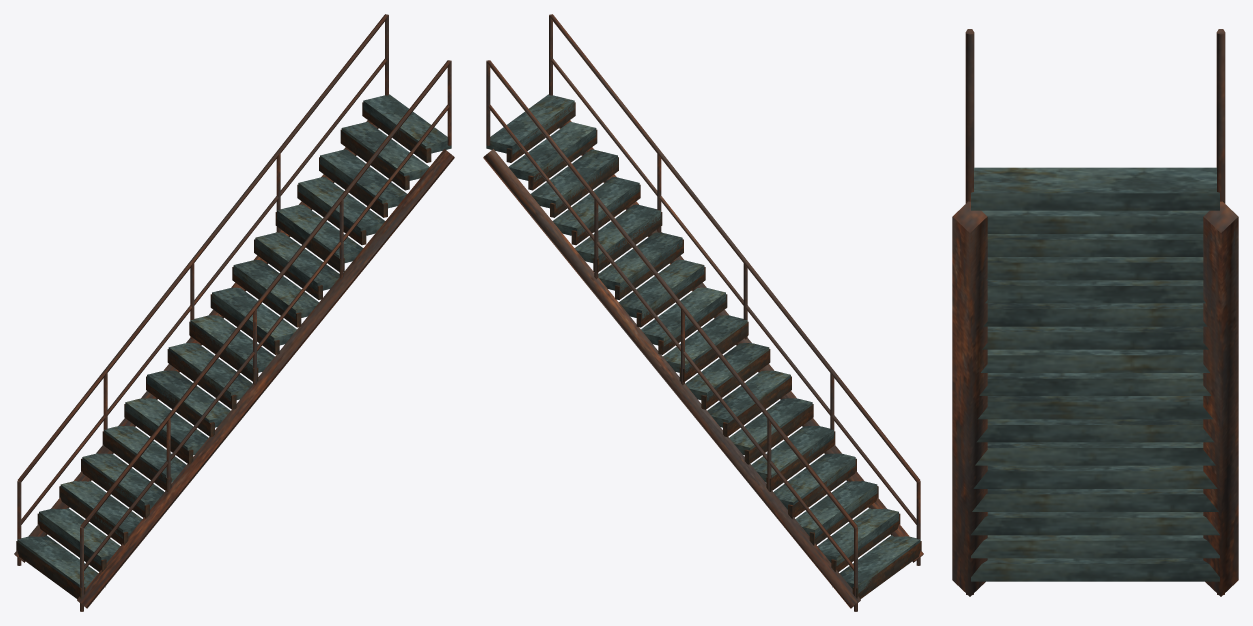
The model's file is Stairs_Industrial.glb.
3 views of the same model, side by side, from view 1: azimuth 30°, elevation 25°; view 2: azimuth 150°, elevation 25°; view 3: azimuth 270°, elevation 25° (orthographic). The views are drawn at different scales.
Visible parts, largest first — view 1: Stairs_Industrial; view 2: Stairs_Industrial; view 3: Stairs_Industrial.
Part boxes in pixels (left/top/right/bottom): Stairs_Industrial: left=14, top=14, right=454, bottom=611; Stairs_Industrial: left=483, top=14, right=923, bottom=611; Stairs_Industrial: left=952, top=29, right=1238, bottom=596.
Bounding box in the file's own units: 4.73 × 5.51 × 1.55.
1 material, 1 textured.
